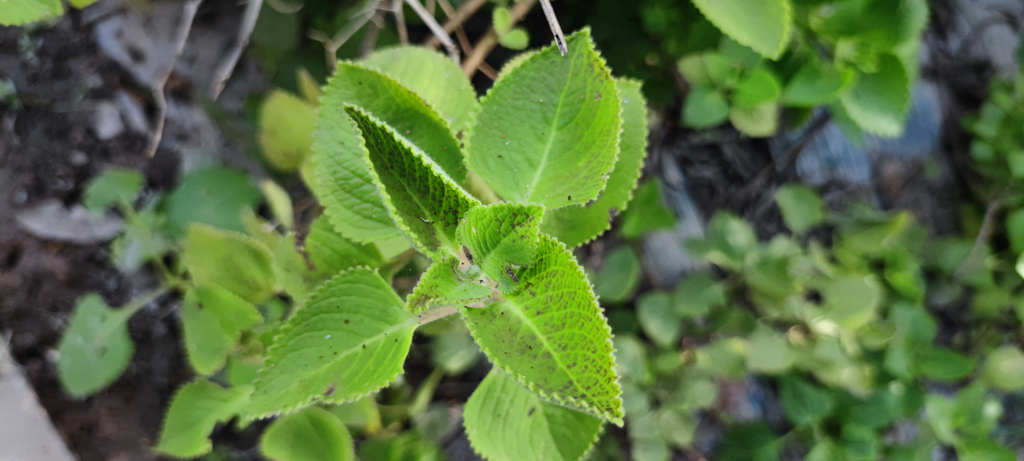Sooty mold: (505, 252, 618, 419), (479, 306, 548, 375)
